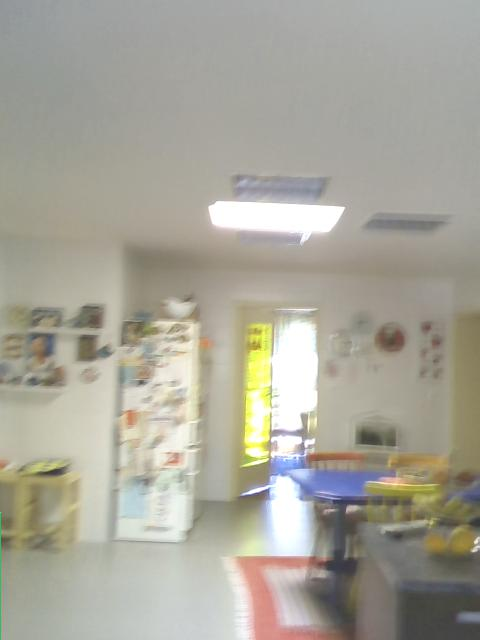semi_door: (229, 297, 330, 508)
